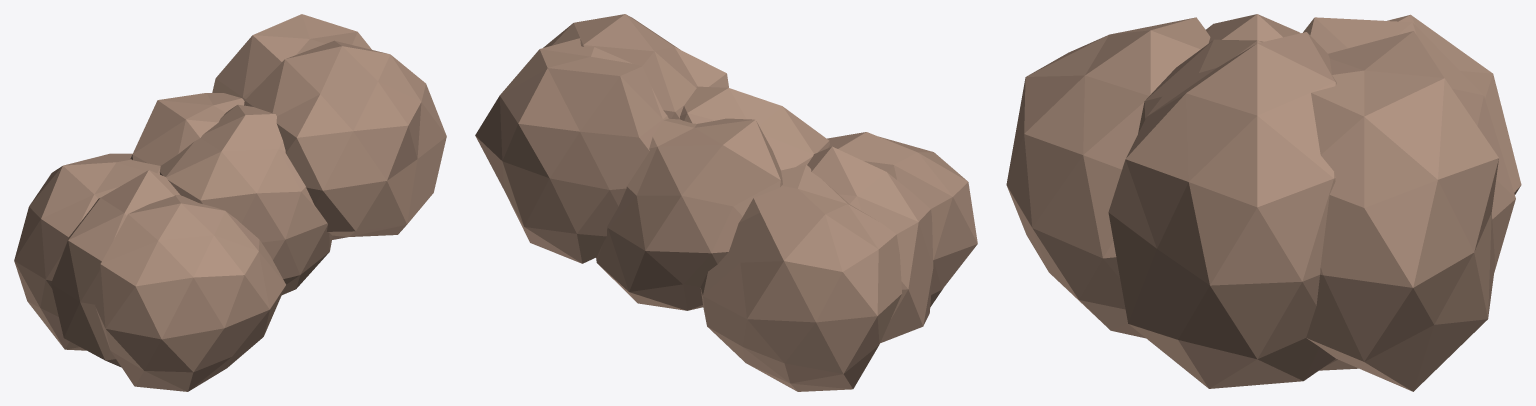
File: a2_rock.glb
3 views of the same model, side by side, from view 1: azimuth 30°, elevation 25°; view 2: azimuth 150°, elevation 25°; view 3: azimuth 270°, elevation 25° (orthographic). The views are drawn at different scales.
Parts seen in each view (by area): view 1: Body.010; view 2: Body.010; view 3: Body.010.
Part boxes in pixels (left/top/right/bottom): Body.010: left=14, top=14, right=446, bottom=391; Body.010: left=475, top=14, right=977, bottom=391; Body.010: left=1006, top=14, right=1521, bottom=391.
Size of the model in its own units: 2.03 by 1.45 by 1.45.
